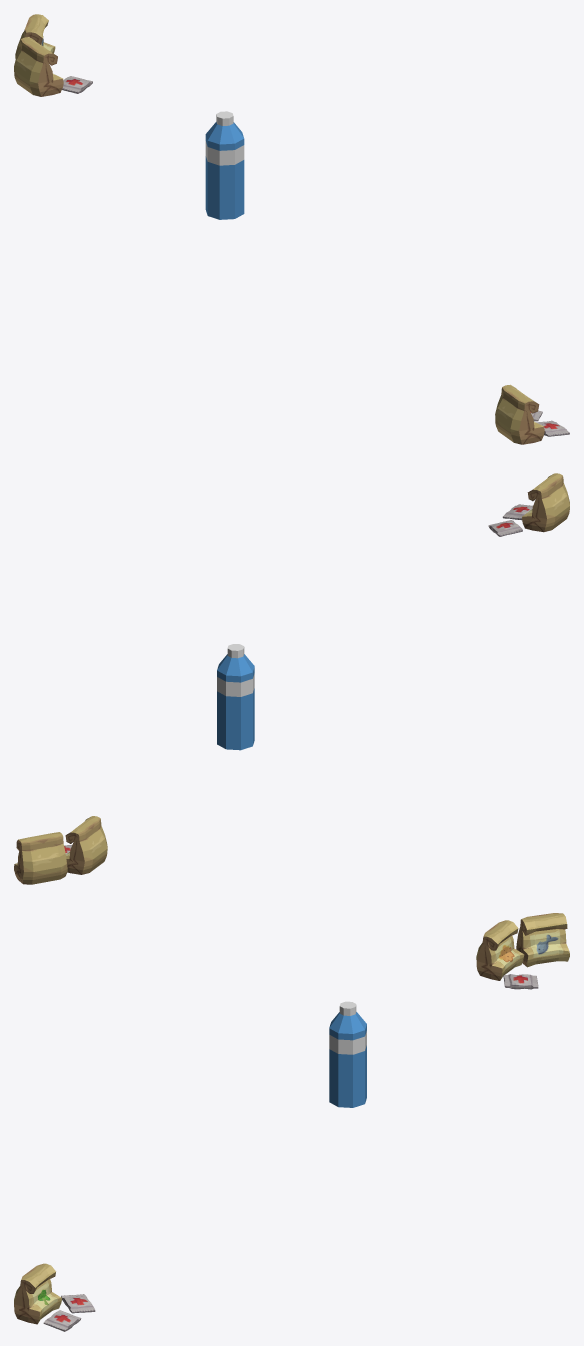
The model's file is FoodSupplies.fbx.
The picture shows the model from 3 angles, top to bottom: view 1: azimuth 30°, elevation 25°; view 2: azimuth 150°, elevation 25°; view 3: azimuth 330°, elevation 25°; orthographic projection.
Visible parts, largest first — view 1: GarrafaAgua, Vegetal, Bolachas, Peixe; view 2: GarrafaAgua, Peixe, Vegetal, Bolachas; view 3: GarrafaAgua, Peixe, Vegetal, Bolachas.
Boxes of the visible parts, x1,y1,x2,y2 form: GarrafaAgua: [205, 111, 244, 219]; Vegetal: [495, 384, 544, 444]; Bolachas: [14, 37, 63, 96]; Peixe: [15, 14, 55, 58]; GarrafaAgua: [217, 644, 254, 750]; Peixe: [14, 832, 67, 884]; Vegetal: [522, 473, 569, 532]; Bolachas: [65, 816, 107, 874]; GarrafaAgua: [329, 1001, 366, 1107]; Peixe: [516, 913, 569, 967]; Vegetal: [14, 1263, 61, 1324]; Bolachas: [476, 920, 524, 980].
Size of the model in its own units: 23.93 by 34.68 by 341.
Materials: 5 (5 with a texture image).
